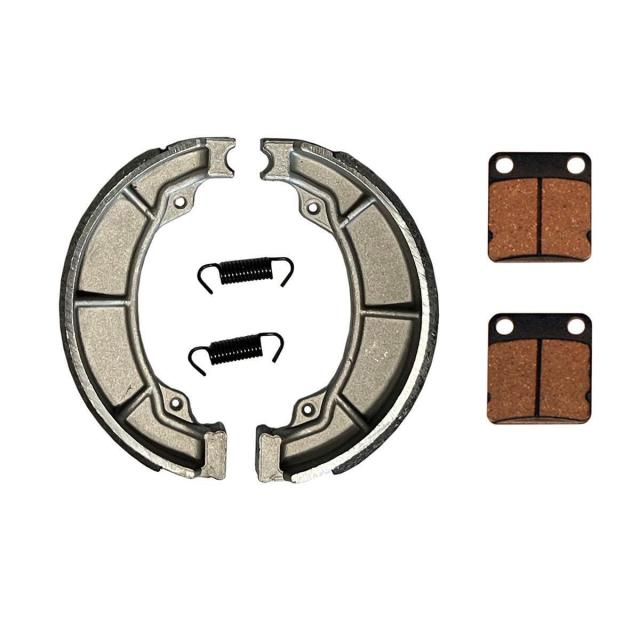brake_pad: (252, 132, 442, 495), (55, 129, 240, 497), (478, 300, 598, 434), (474, 146, 600, 271)
